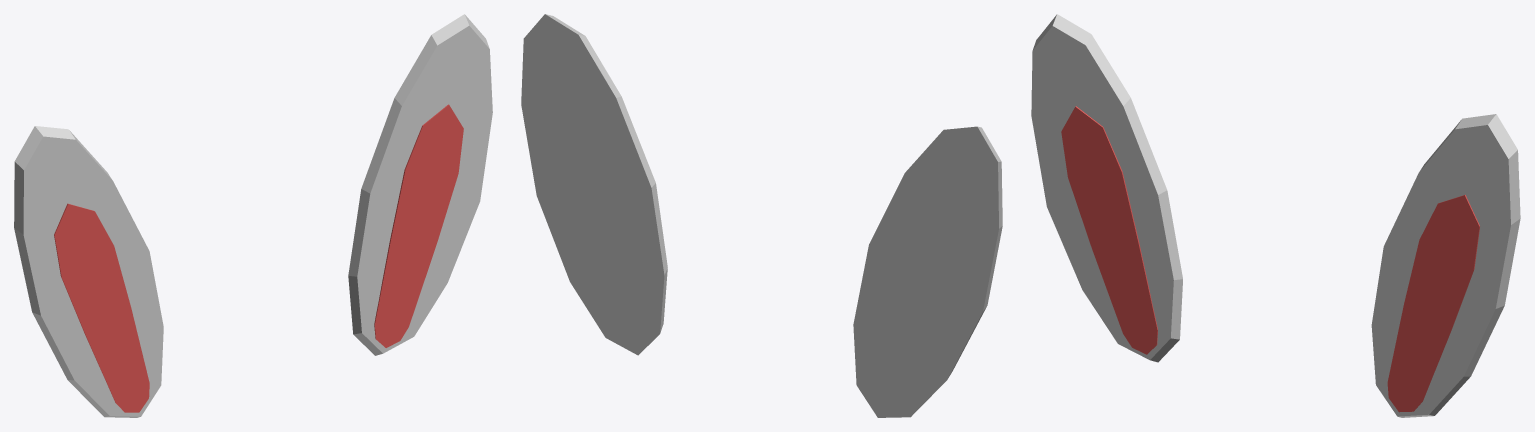
The model's file is Rabbit.fbx.
The picture shows the model from 3 angles, left to right: view 1: azimuth 30°, elevation 25°; view 2: azimuth 150°, elevation 25°; view 3: azimuth 330°, elevation 25°; orthographic projection. The views are drawn at different scales.
Parts seen in each view (by area): view 1: 실린더.005; view 2: 실린더.005; view 3: 실린더.005.
Boxes of the visible parts, <box> form: 실린더.005: <box>14,14,492,417</box>; 실린더.005: <box>521,14,1002,417</box>; 실린더.005: <box>1031,14,1520,417</box>.
Size of the model in its own units: 22.72 by 14.74 by 0.7029.
